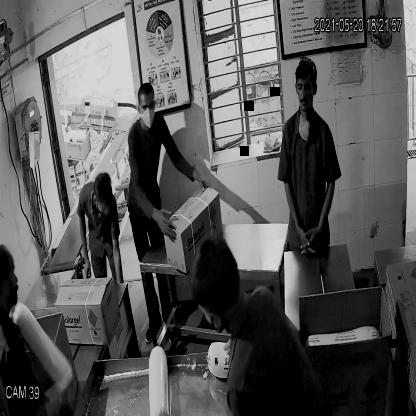no_goggles: (290, 76, 318, 97), (135, 99, 159, 115)
